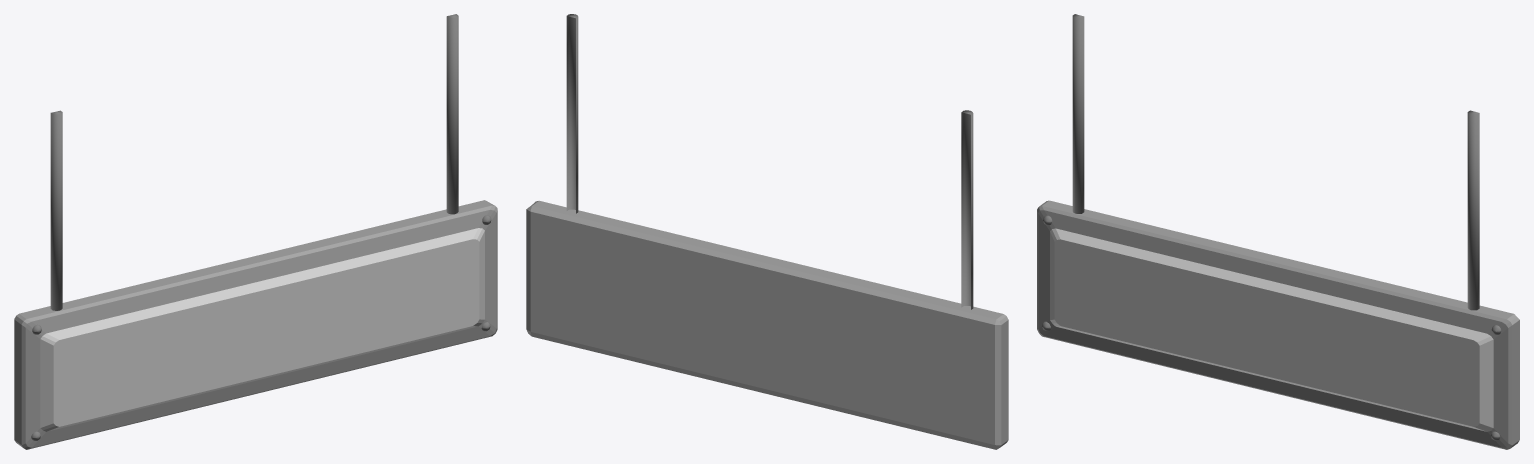
Rendered from expTank_sign.fbx.
3 views of the same model, side by side, from view 1: azimuth 30°, elevation 25°; view 2: azimuth 150°, elevation 25°; view 3: azimuth 330°, elevation 25° (orthographic).
Visible parts, largest first — view 1: Cube.895, Cylinder.661; view 2: Cube.895, Cylinder.661; view 3: Cube.895, Cylinder.661.
Boxes of the visible parts, <box> form: Cube.895: <box>14,200,497,449</box>; Cylinder.661: <box>31,14,491,440</box>; Cube.895: <box>526,200,1008,449</box>; Cylinder.661: <box>566,14,973,309</box>; Cube.895: <box>1037,200,1519,449</box>; Cylinder.661: <box>1042,14,1501,440</box>.
Bounding box in the file's own units: 12.65 × 8.3 × 0.7341.
